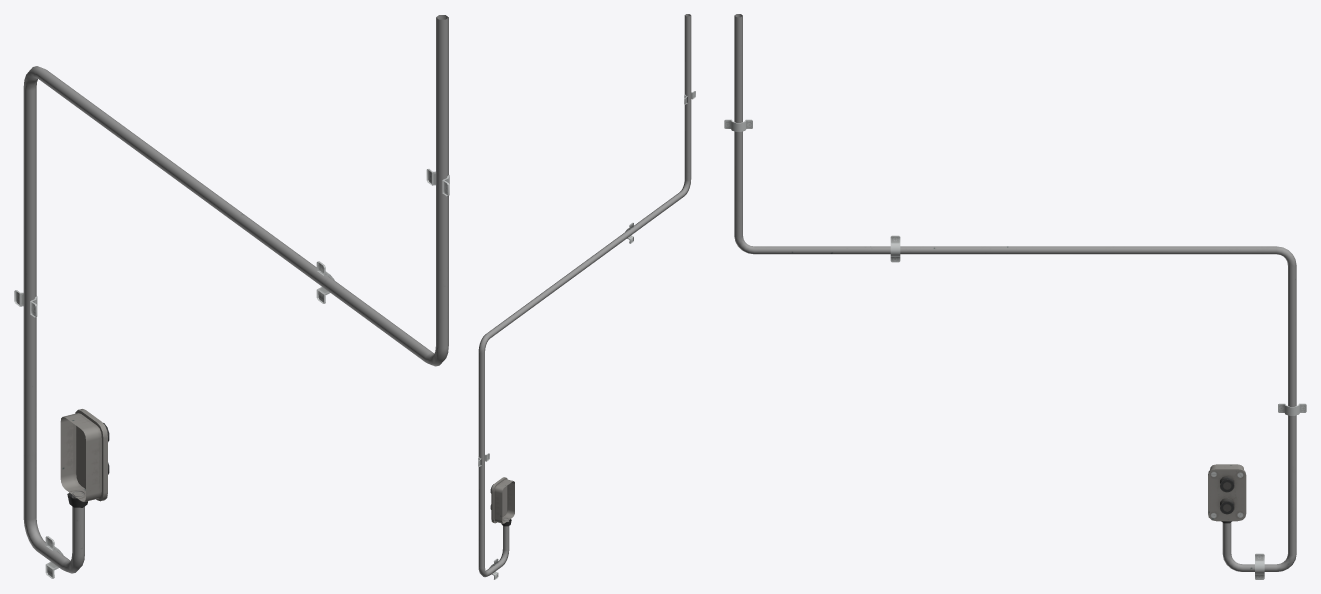
Rendered from SM_WallWire_07.FBX.
3 renders of one model, left to right at view 1: azimuth 30°, elevation 25°; view 2: azimuth 150°, elevation 25°; view 3: azimuth 270°, elevation 25°, orthographic. The views are drawn at different scales.
Parts seen in each view (by area): view 1: SM_WallWire_07_LOD0; view 2: SM_WallWire_07_LOD0; view 3: SM_WallWire_07_LOD0.
Part boxes in pixels (<box>): SM_WallWire_07_LOD0: <box>14,15,449,578</box>; SM_WallWire_07_LOD0: <box>478,14,695,579</box>; SM_WallWire_07_LOD0: <box>724,14,1306,579</box>.
Bounding box in the file's own units: 8.4 × 185 × 198.
